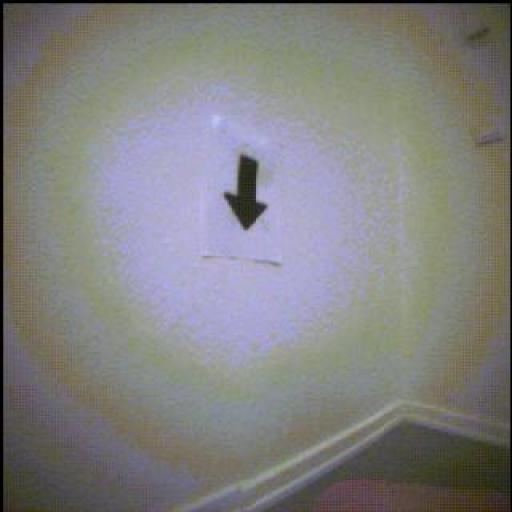arrow: (225, 157, 268, 232)
